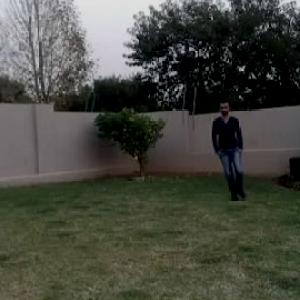follow: (213, 96, 248, 204)
